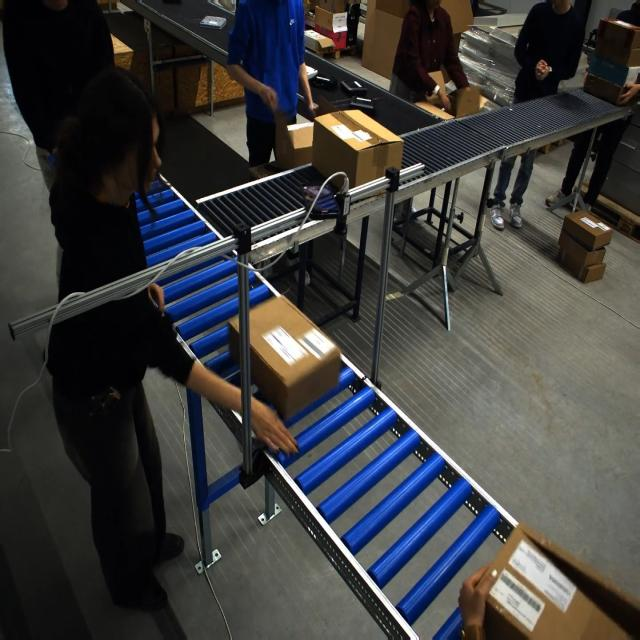box: (467, 517, 637, 635), (230, 294, 337, 421), (312, 111, 390, 203), (275, 117, 311, 171)
product: (351, 91, 377, 112), (340, 79, 367, 97), (312, 74, 337, 90), (199, 15, 227, 29)
